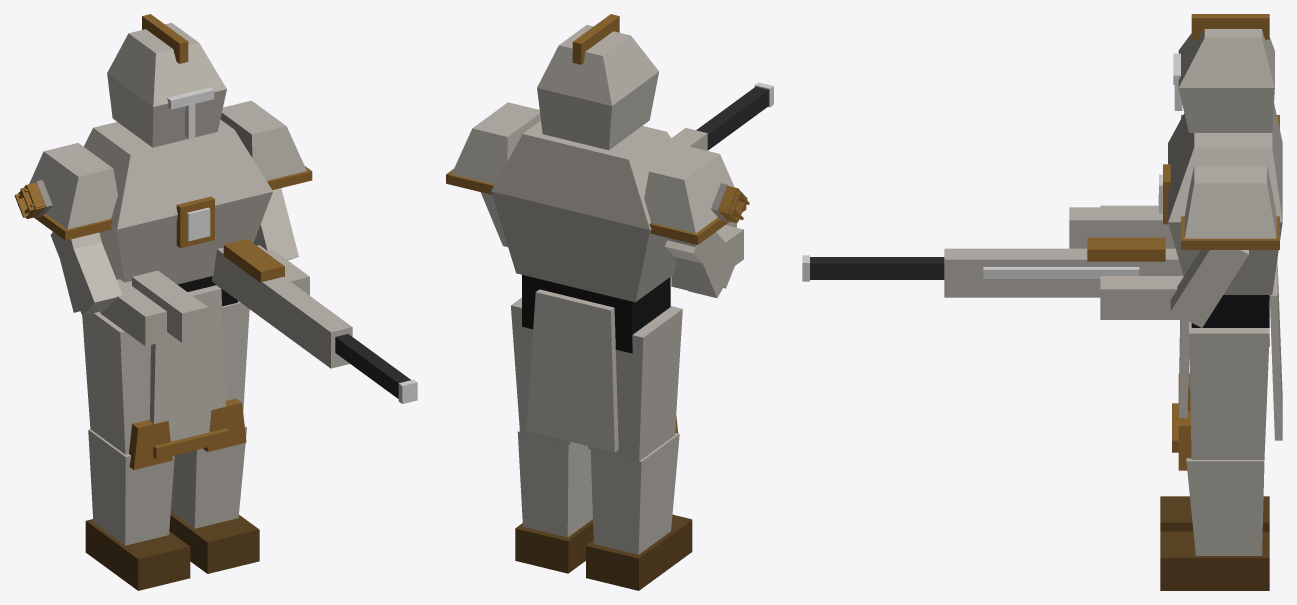
Rendered from infantry.glb.
3 renders of one model, left to right at view 1: azimuth 30°, elevation 25°; view 2: azimuth 150°, elevation 25°; view 3: azimuth 270°, elevation 25°, orthographic. The views are drawn at different scales.
Visible parts, largest first — view 1: body; view 2: body; view 3: body.
Part boxes in pixels (box(x1,y1,x2,y2)): body: box(14, 14, 417, 590); body: box(446, 14, 773, 590); body: box(802, 14, 1282, 590).
Bounding box in the file's own units: 1.23 × 2.31 × 1.84.
